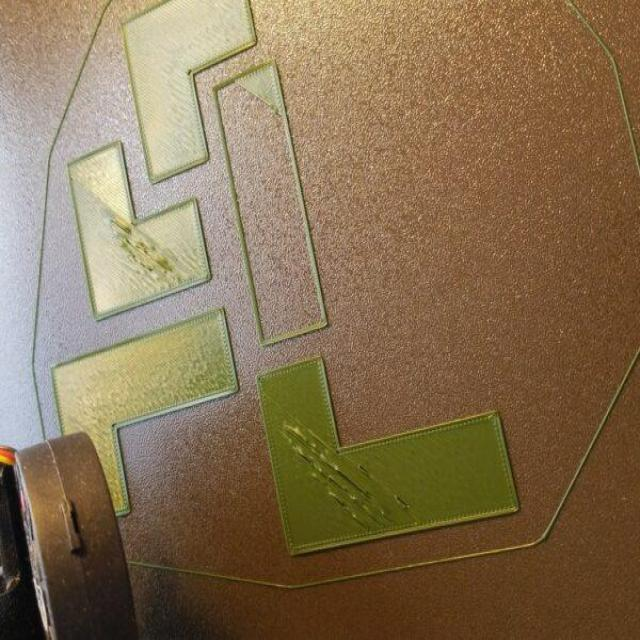cracks: (279, 413, 421, 539), (104, 205, 190, 290)
